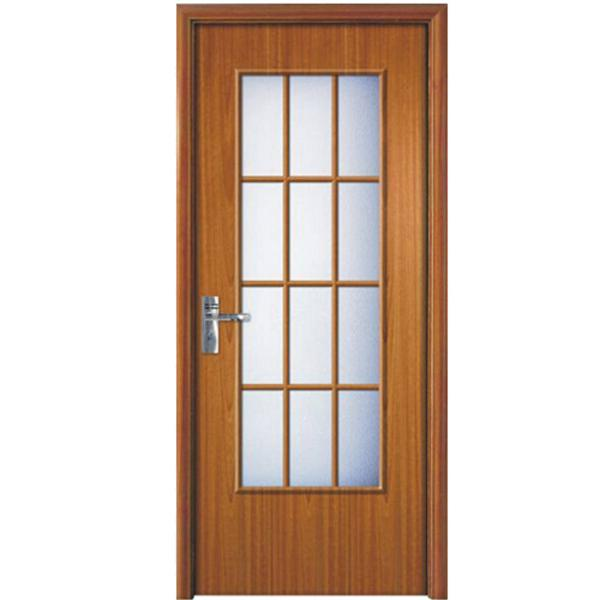door: (193, 23, 431, 594)
